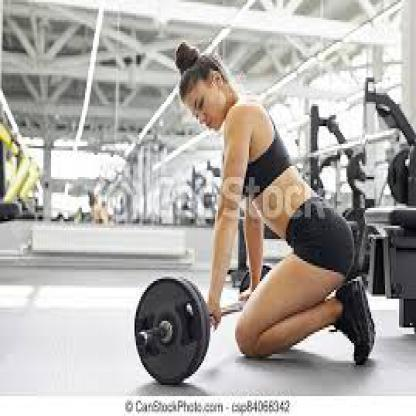barbell: (131, 276, 210, 386)
